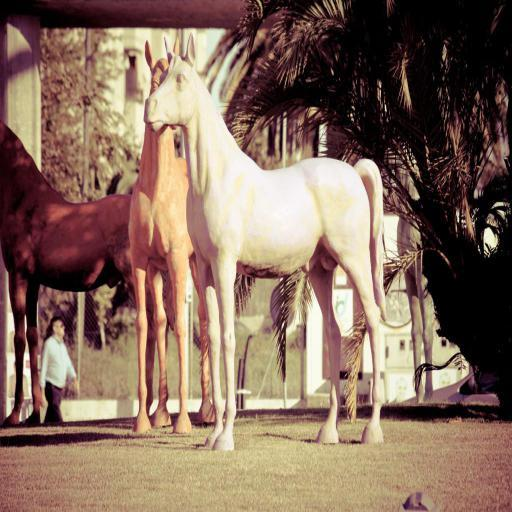Horse: (142, 32, 388, 442), (0, 118, 161, 436), (124, 34, 218, 438)
